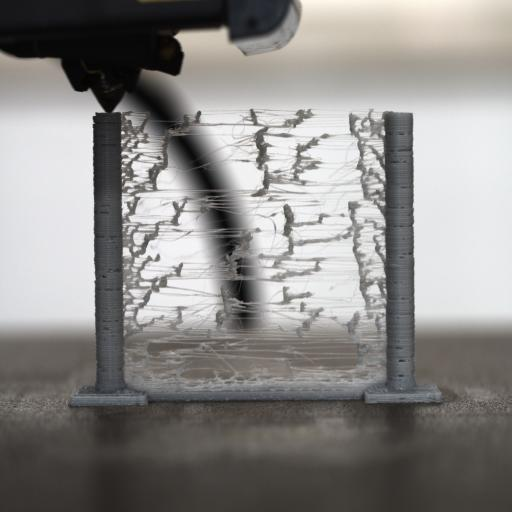stringing: (114, 106, 378, 382)
